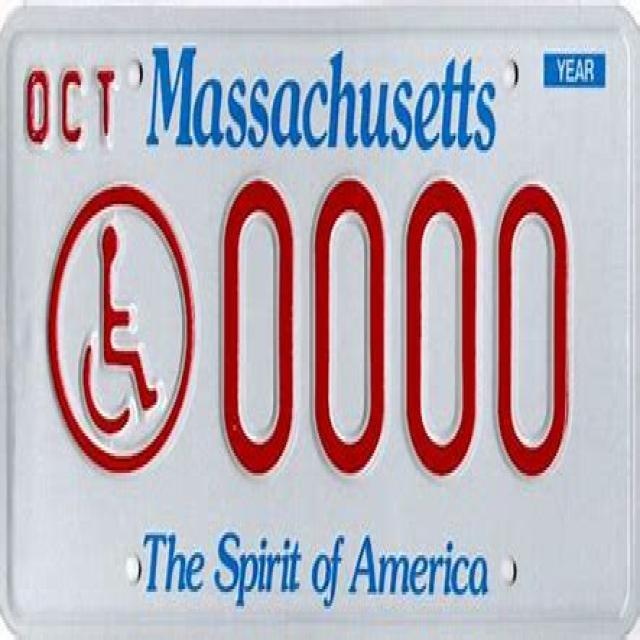symbol_of_access: (80, 218, 160, 442)
